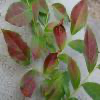Blueberry leaf: (2, 29, 33, 67), (81, 25, 98, 76), (4, 1, 35, 27), (45, 70, 72, 99), (64, 53, 83, 92), (70, 1, 88, 36), (18, 69, 39, 97), (41, 51, 61, 75), (30, 32, 46, 61), (51, 5, 71, 23), (51, 69, 61, 81)
